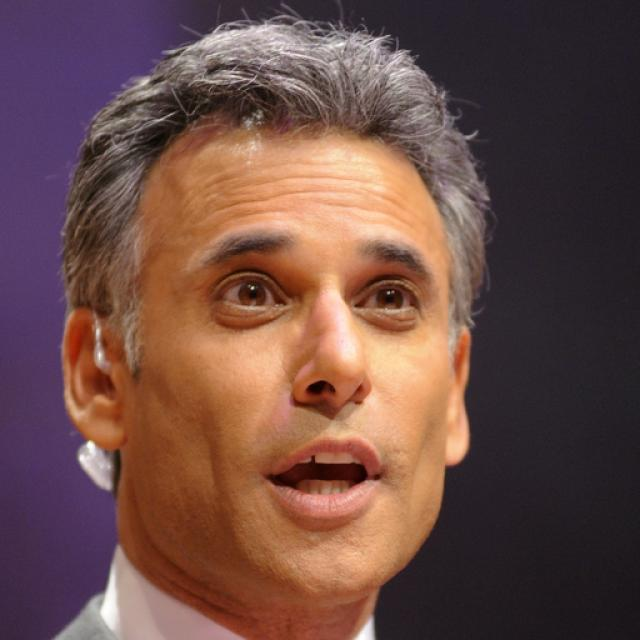Wrinkle: (218, 184, 409, 213), (216, 171, 409, 197), (324, 197, 415, 229), (218, 204, 289, 229)
